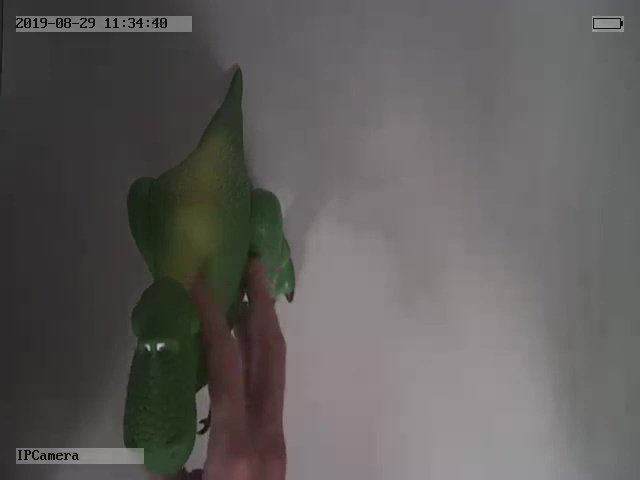rex: (123, 65, 296, 477)
